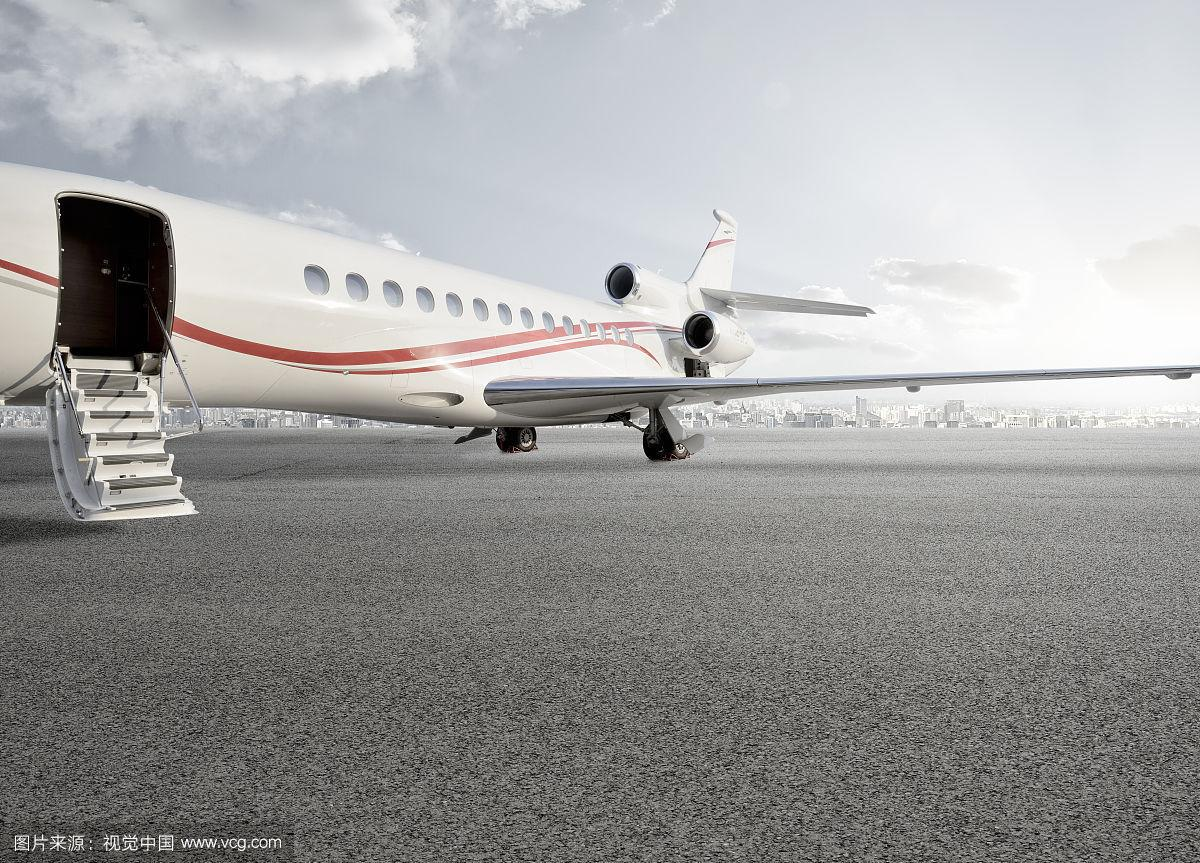airplane: (4, 154, 1200, 436)
